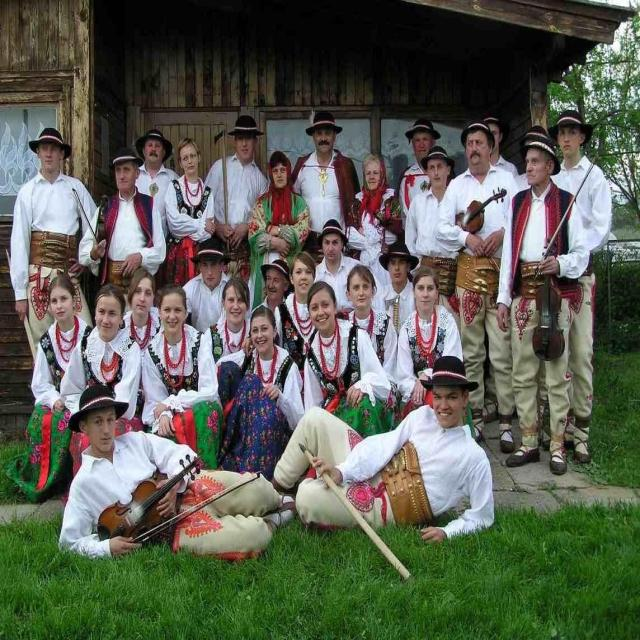violin: (97, 454, 204, 546), (533, 236, 568, 360), (454, 185, 509, 235), (95, 196, 107, 255)
